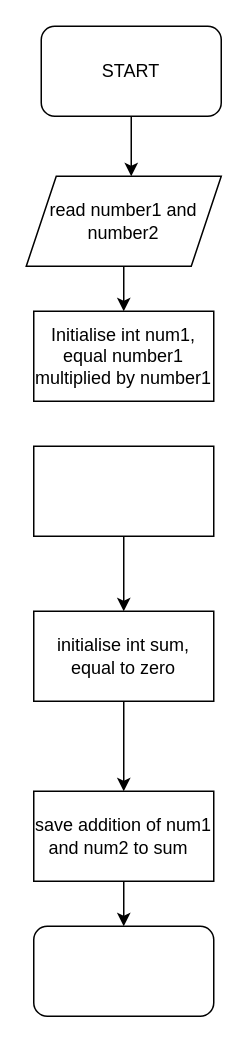
Image size: 248x1043. Some labels were removed from this diagram. The shapes that lost their labels are listed below. From the top down, each one's centre as x and y in pixels, then its label:
(x=123, y=490): Initialise int num2, equal number2 multiplied by number2
(x=123, y=970): return sum
